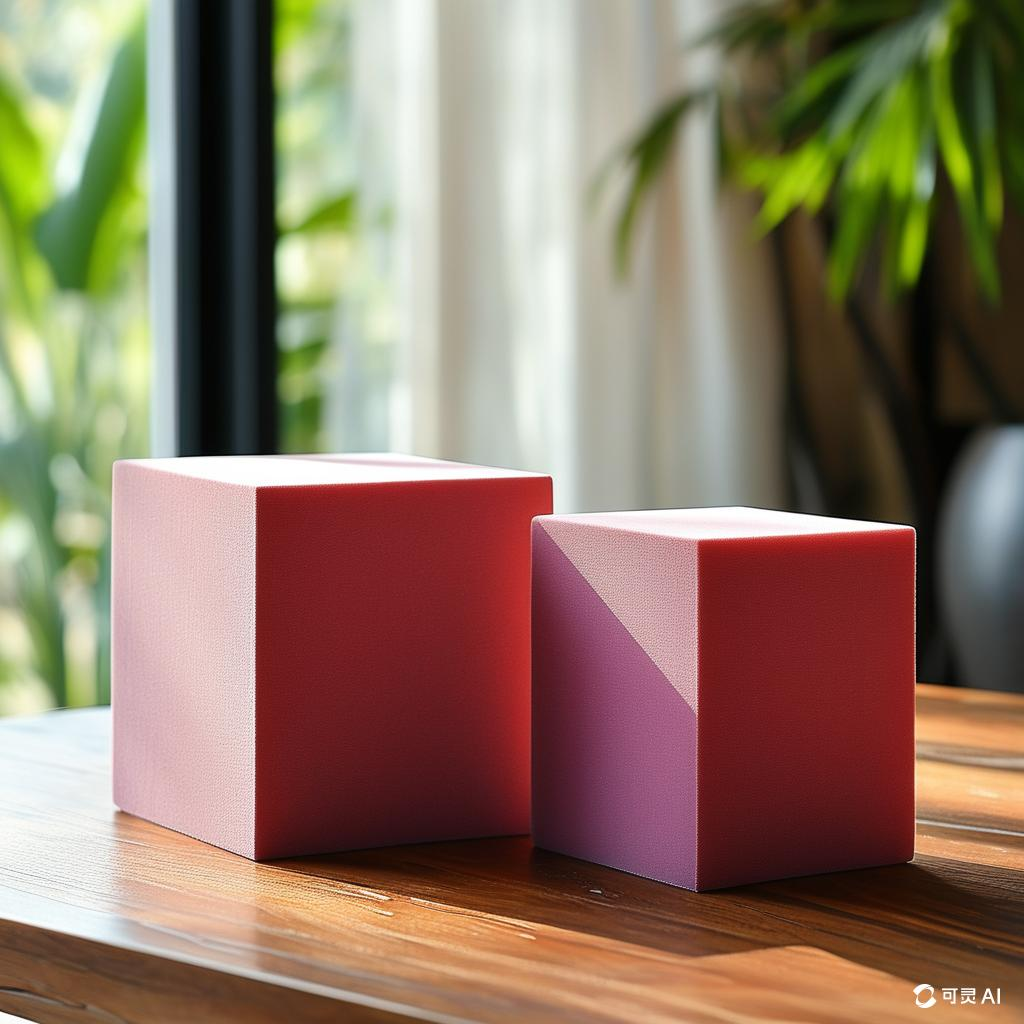cube: (109, 450, 553, 862), (528, 503, 917, 893)
